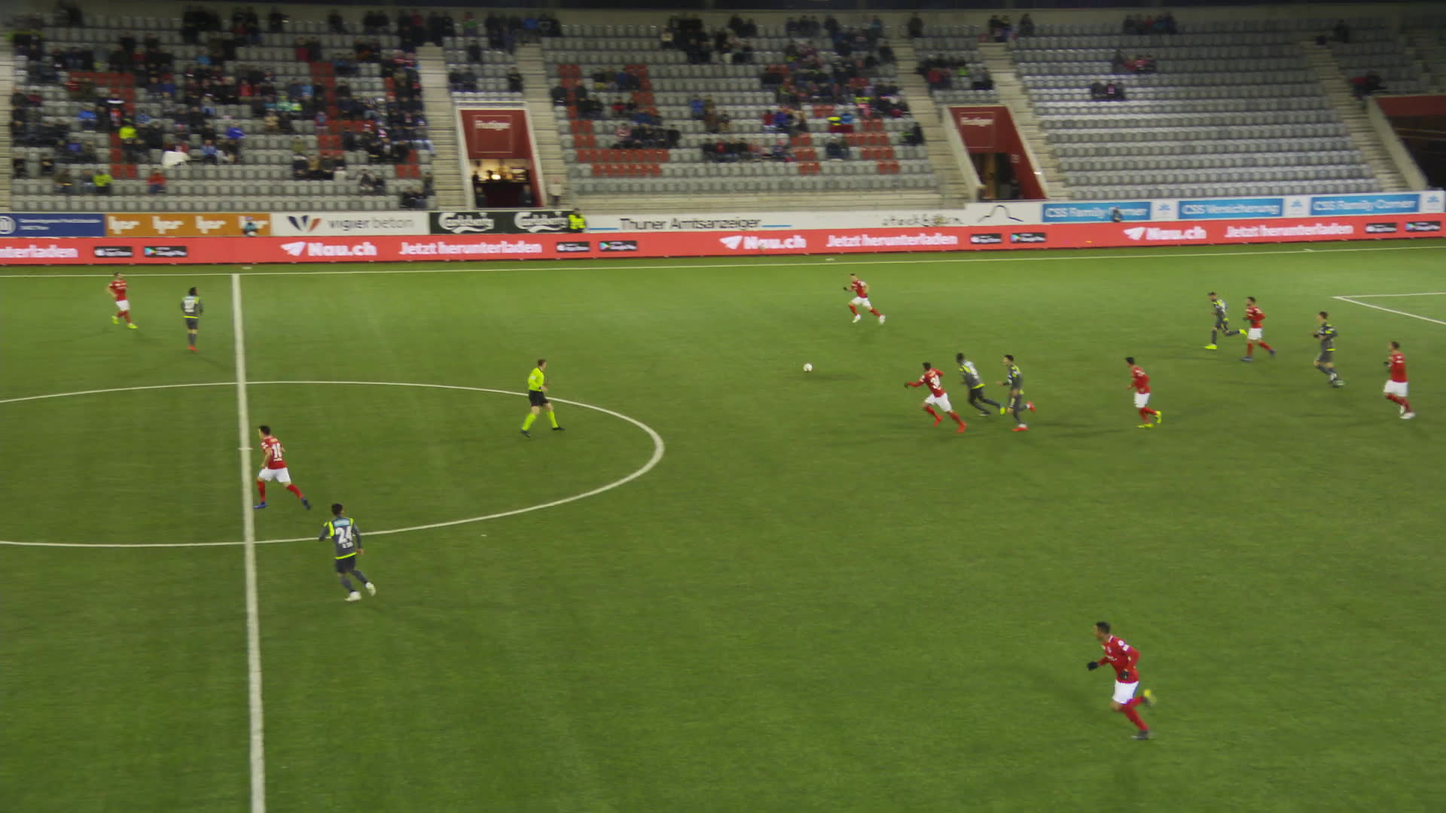ball: (803, 362, 813, 371)
player: (1089, 615, 1182, 742), (316, 499, 381, 601), (993, 349, 1044, 430), (908, 362, 963, 434), (254, 428, 297, 517), (1307, 310, 1350, 389), (1377, 339, 1418, 419), (952, 352, 999, 421), (1121, 353, 1164, 428), (1237, 297, 1271, 361), (1206, 291, 1240, 351), (175, 289, 205, 355), (845, 273, 880, 327), (102, 271, 129, 327)
referee: (519, 358, 550, 437)
